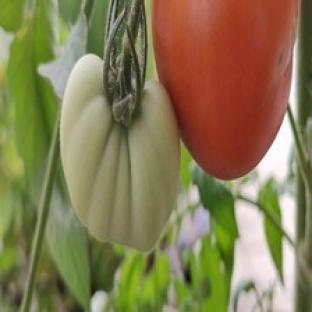Tomato: (60, 55, 179, 250)
